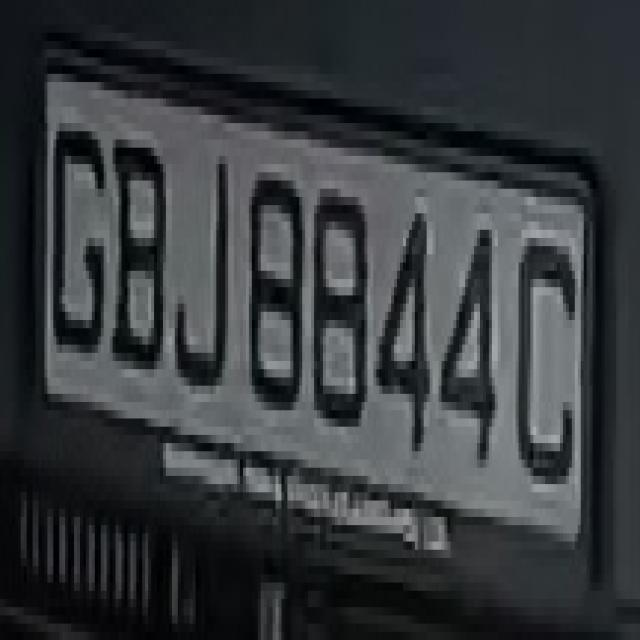4: (368, 156, 442, 476), (444, 213, 506, 476)
8: (237, 131, 308, 476), (302, 156, 373, 476)
B: (101, 115, 172, 402)
C: (512, 205, 584, 542)
G: (47, 82, 107, 377)
J: (166, 107, 243, 402)
